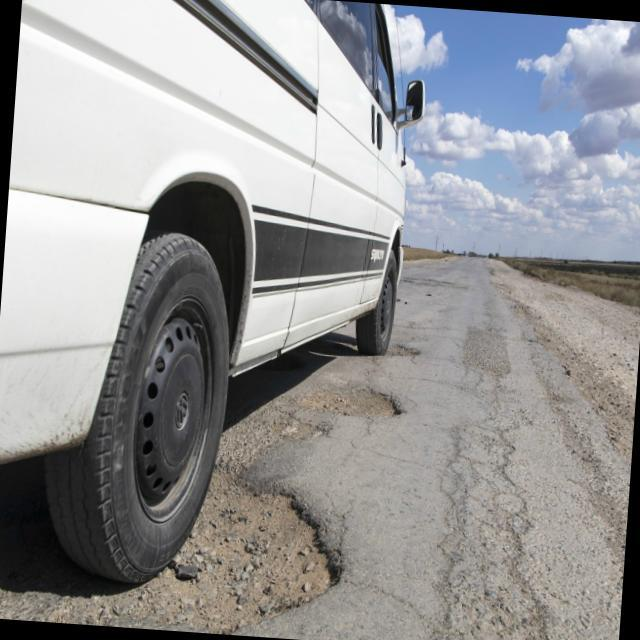Pothole: (188, 447, 364, 630), (320, 374, 411, 424), (389, 338, 424, 368)
